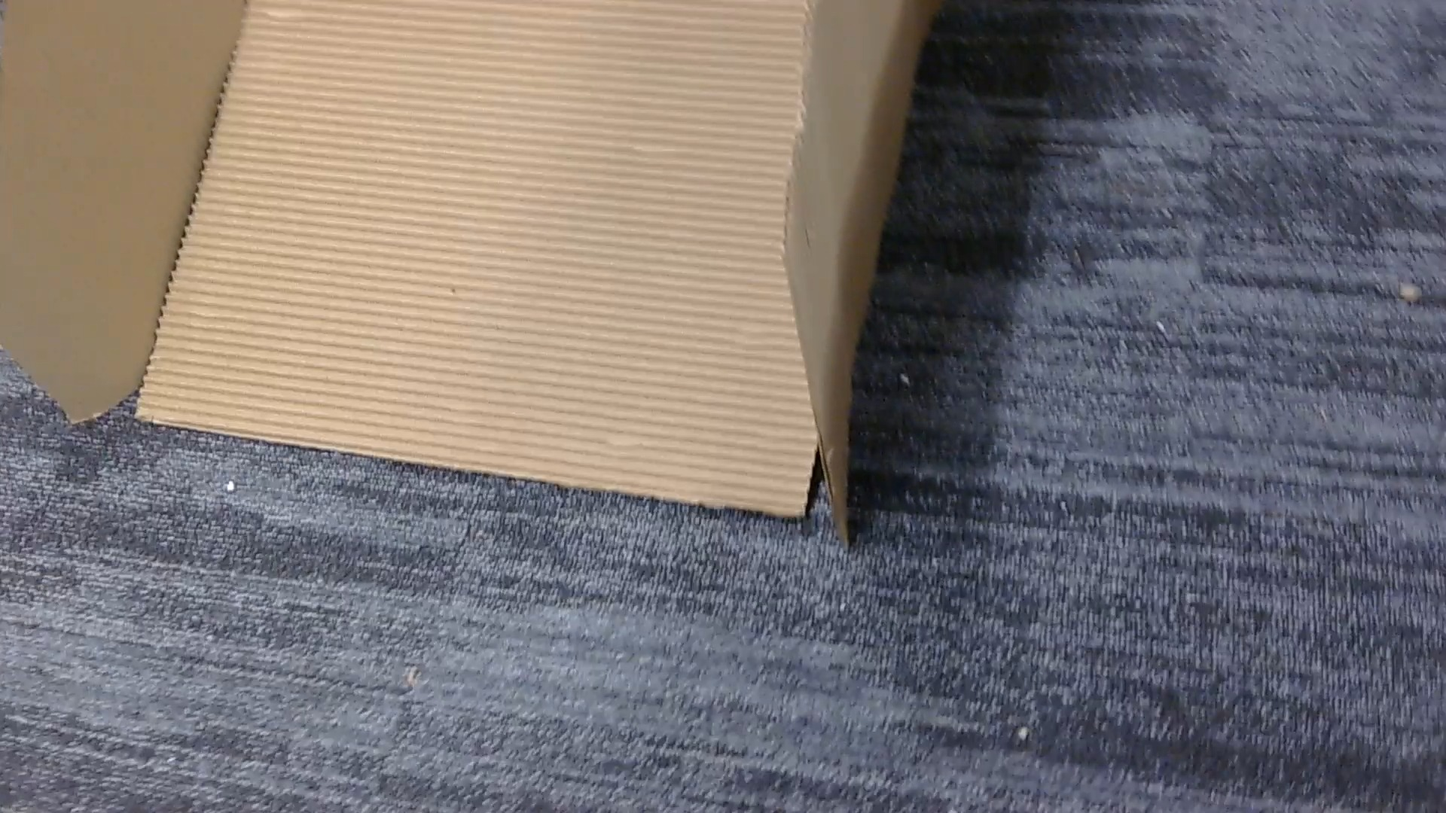Ramp: (0, 0, 941, 516)
